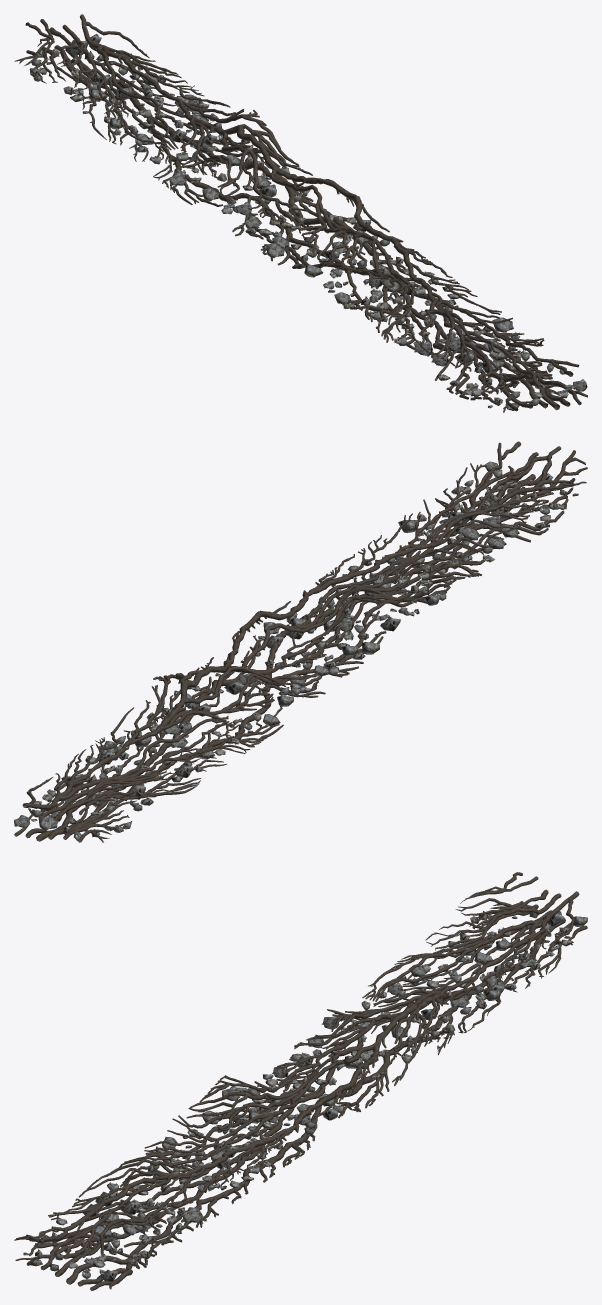
The model's file is Border_Loop.fbx.
3 renders of one model, top to bottom at view 1: azimuth 30°, elevation 25°; view 2: azimuth 150°, elevation 25°; view 3: azimuth 330°, elevation 25°, orthographic.
Parts seen in each view (by area): view 1: Border_Loop; view 2: Border_Loop; view 3: Border_Loop.
Boxes of the visible parts, x1=… form: Border_Loop: x1=14, y1=14, x2=587, y2=412; Border_Loop: x1=14, y1=441, x2=587, y2=842; Border_Loop: x1=14, y1=872, x2=587, y2=1290.
Size of the model in its own units: 1.18 by 0.518 by 8.86.
